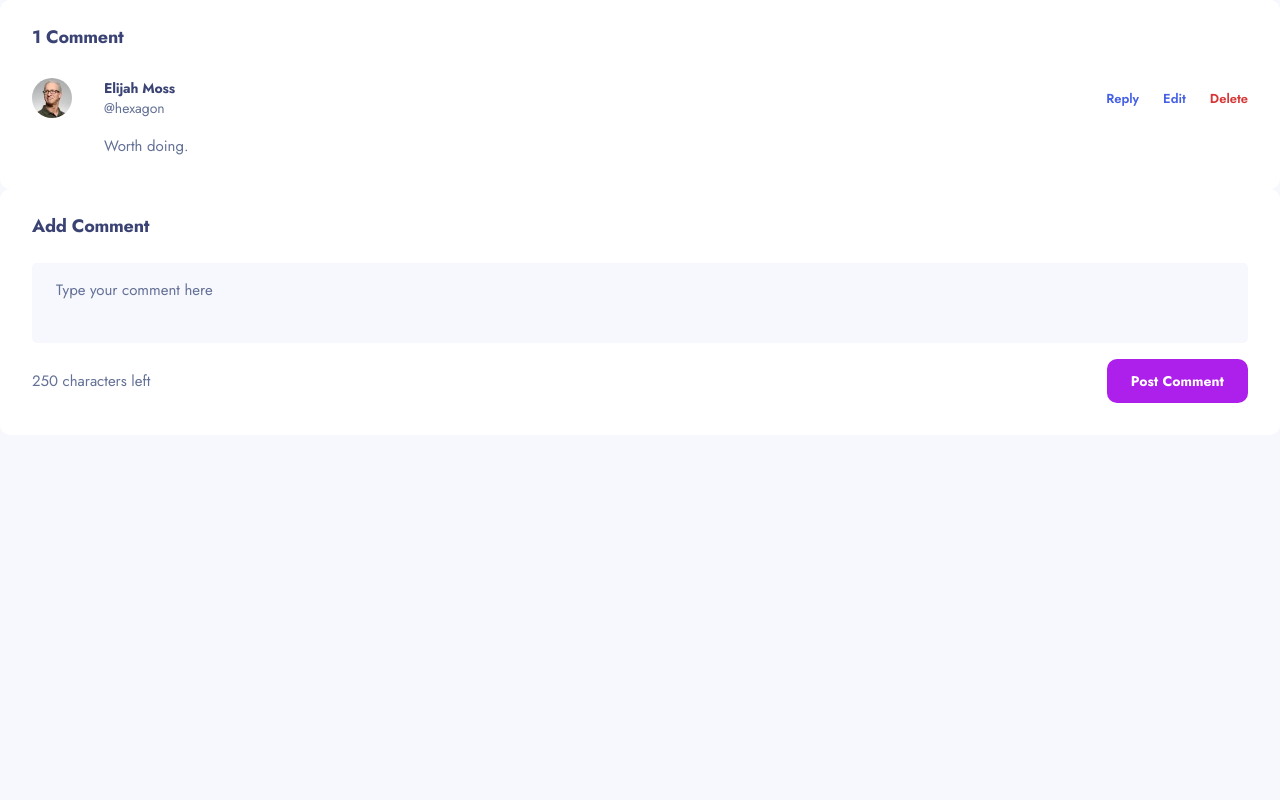
Scenario: a post the server refuses › keeps the text on screen, out of the count, with a way back
Type "Second this." into the text box named "add a comment".
click(640, 303); type("Second this.")  # box [32,263,1248,343]
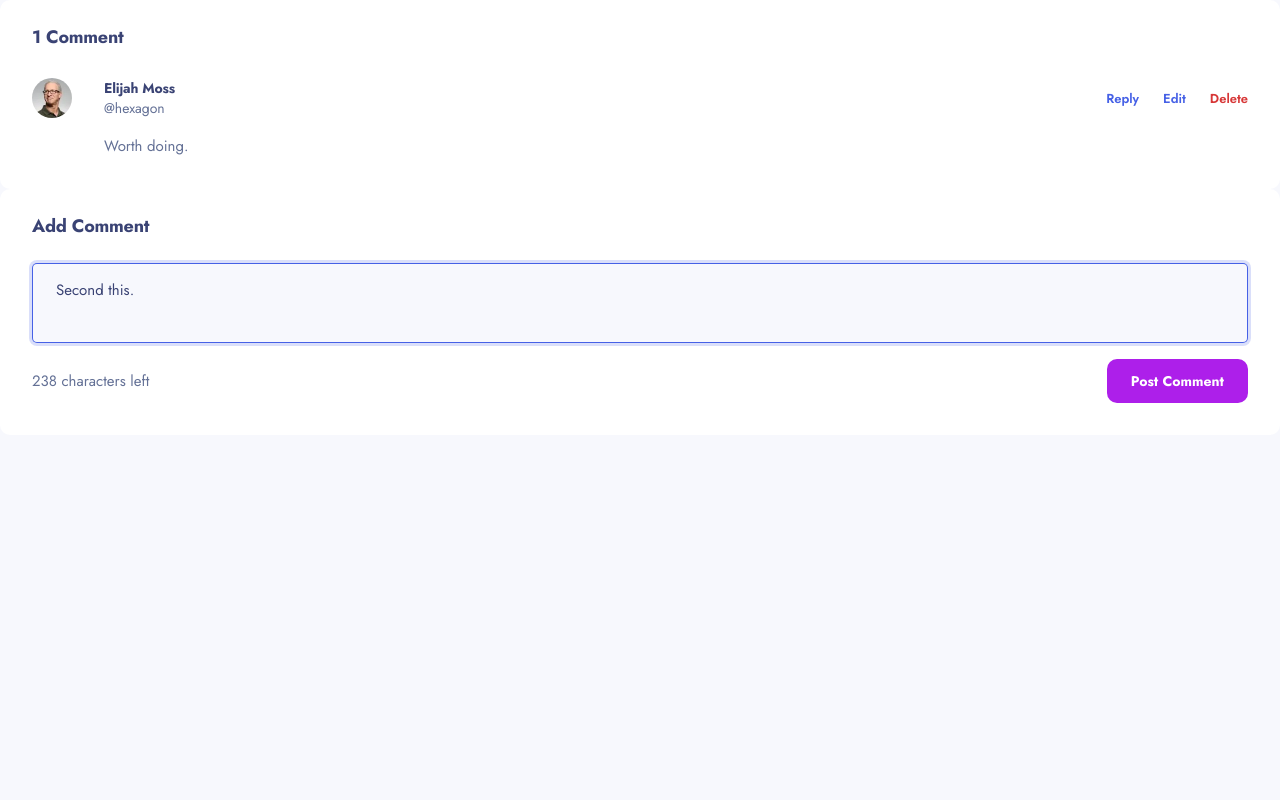
Click the button "Post Comment".
click(1177, 381)  # box [1107,359,1248,403]
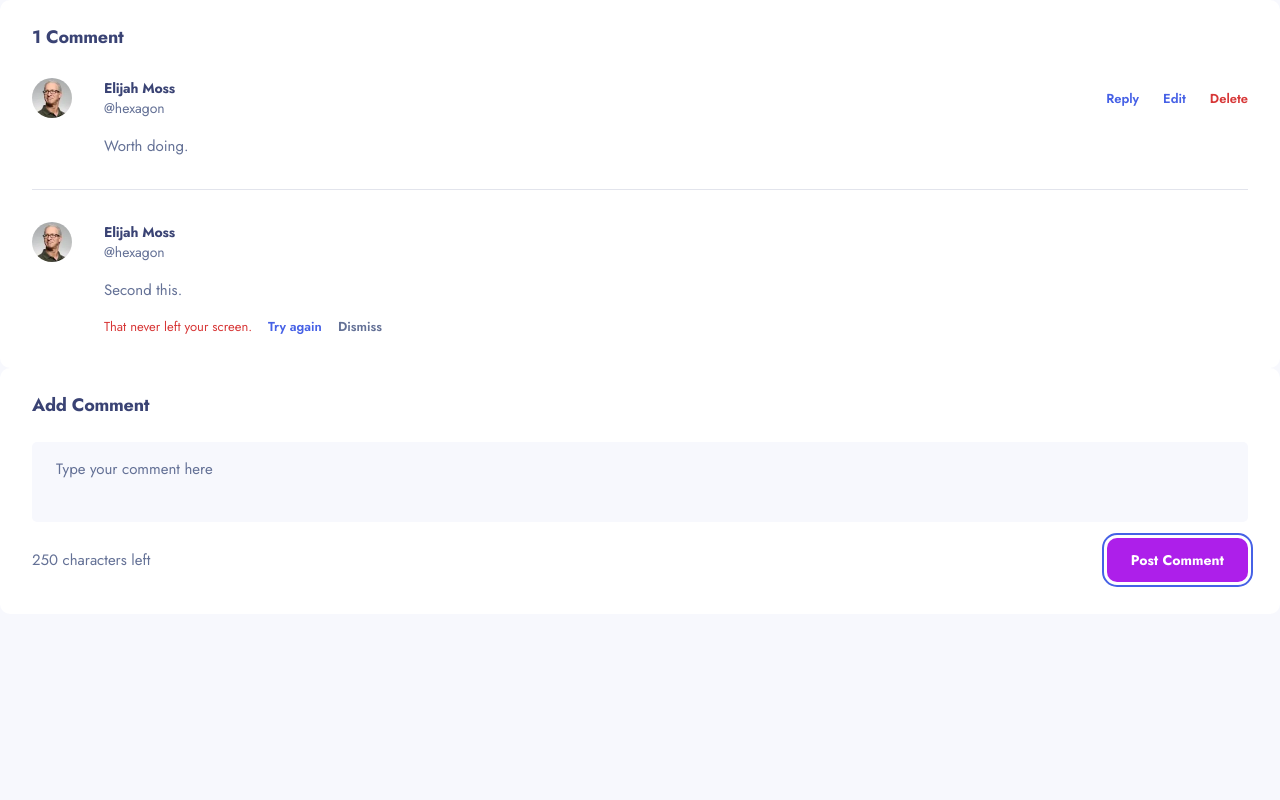
Expected: the heading "1 Comment" is shown, [32,24,124,50]
Expected: the message shows "never left", [104,317,252,336]
Expected: the text "Second this." is shown, [104,279,182,301]
